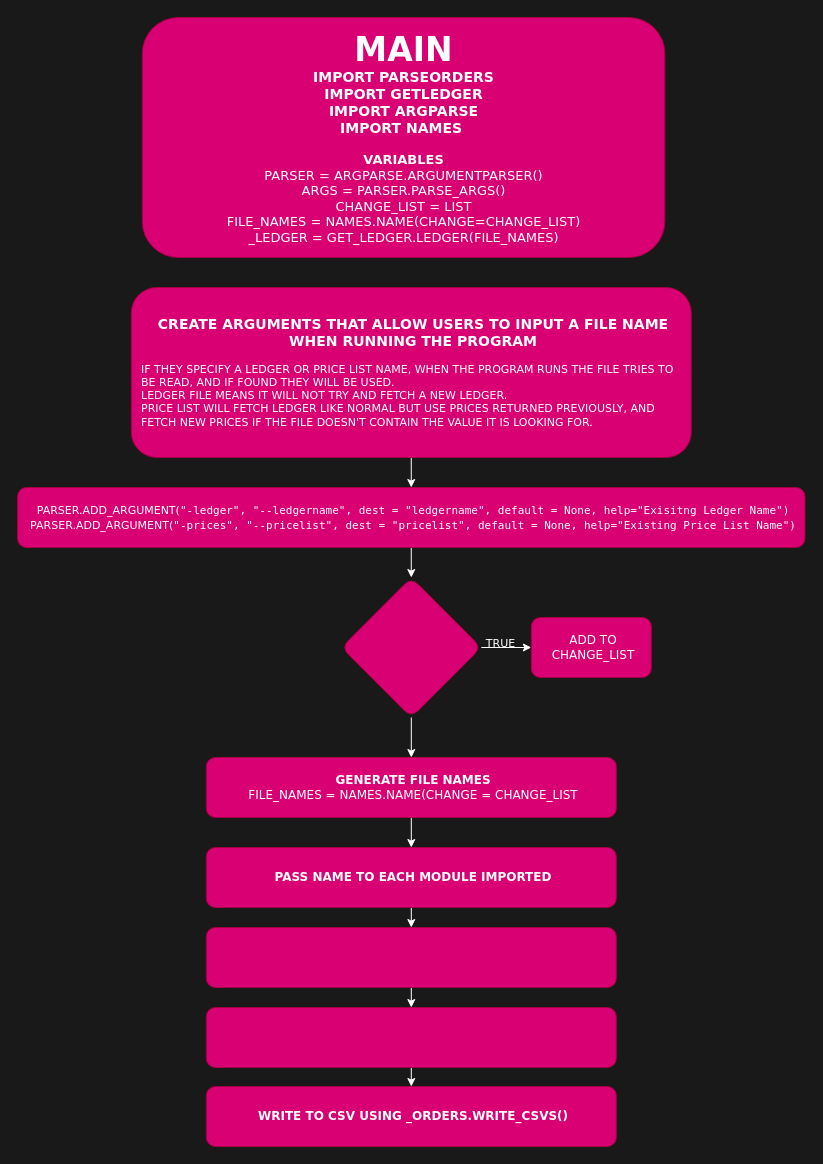
This 823x1164 diagram has some shape labels left out. The centre of each missing label's shape, as x and y in pixels:
"FOR LOOP LOOP THROUGH LEDGER TO PARSE EACH ITEM" goes at point 410,1037.
"IF ARGUMENTS RECIEVED" goes at point 410,647.
"PASS START AND END DATES TO _LEDGER.RUN_LEDGER TO DOWNLOAD THE LEDGER LIST" goes at point 410,957.
